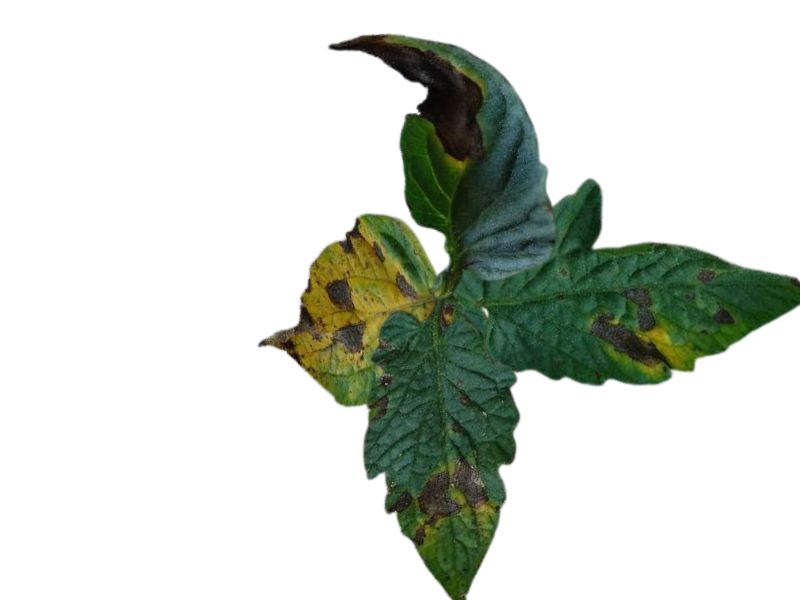Early_blight: (329, 34, 485, 161), (411, 456, 489, 547), (589, 286, 671, 370), (252, 305, 327, 366), (332, 319, 369, 355), (322, 276, 356, 314), (371, 372, 394, 418), (338, 217, 365, 253), (385, 489, 412, 516), (394, 270, 419, 299), (713, 305, 734, 328), (370, 238, 384, 263), (440, 304, 453, 329), (696, 269, 715, 281)
